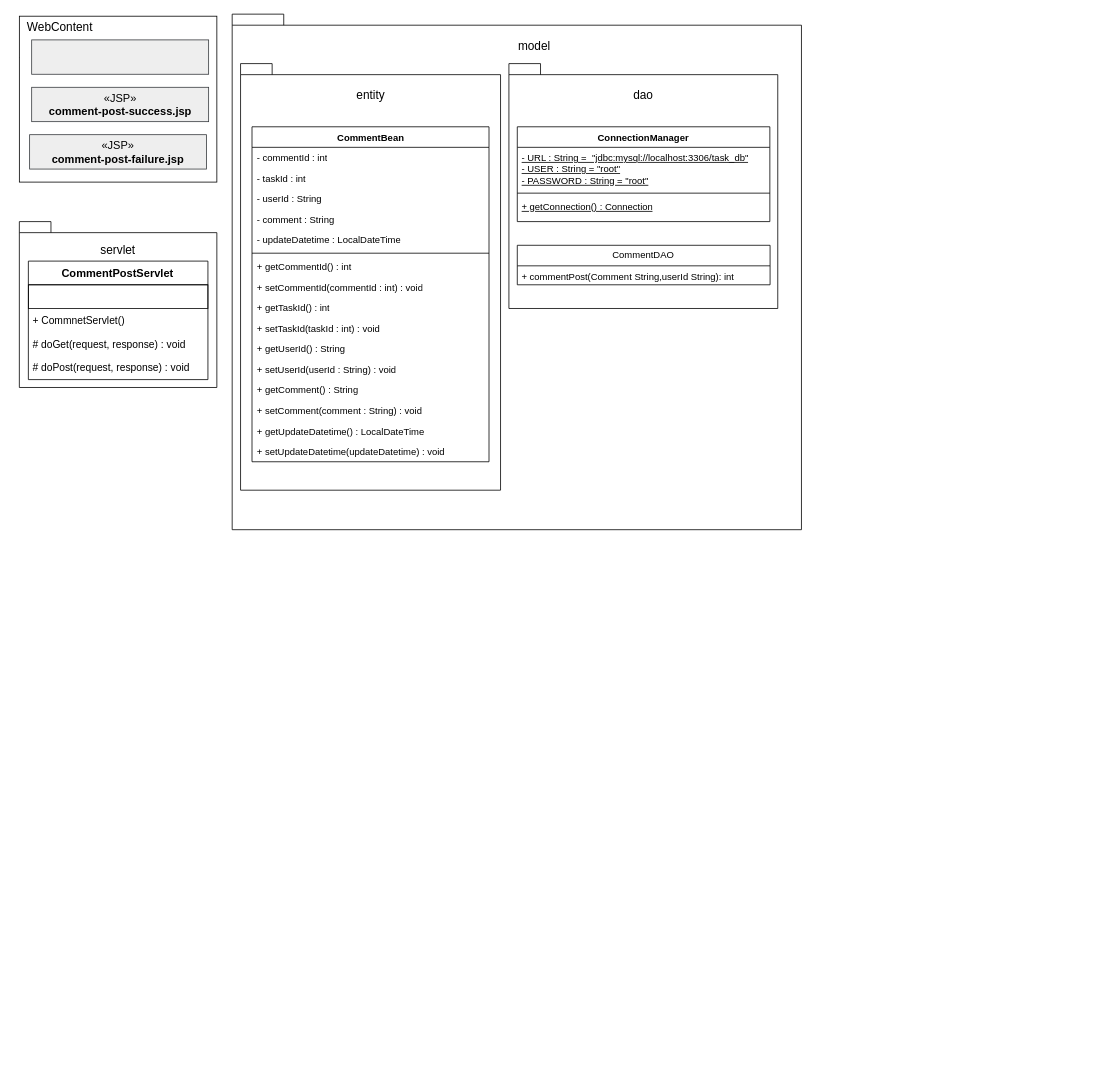
This 1115x1089 diagram has some shape labels left out. Each missing label, with the centre of its shape:
"- serialVersionUID : long = 1L" goes at pixel 118 296.
"«JSP» comment-post-form.jsp" goes at pixel 120 56.
